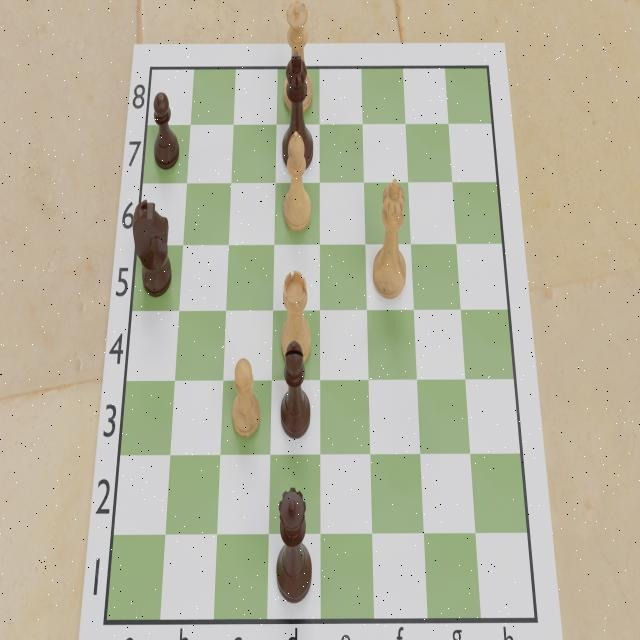black-bishop: (279, 338, 313, 441)
black-king: (281, 52, 314, 172)
black-knight: (131, 195, 173, 301)
black-pawn: (150, 89, 181, 172)
black-queen: (274, 483, 313, 604)
white-bishop: (282, 131, 314, 237)
white-king: (373, 175, 411, 305)
white-pawn: (228, 357, 263, 443)
white-queen: (281, 1, 315, 114)
white-rook: (278, 268, 314, 368)
